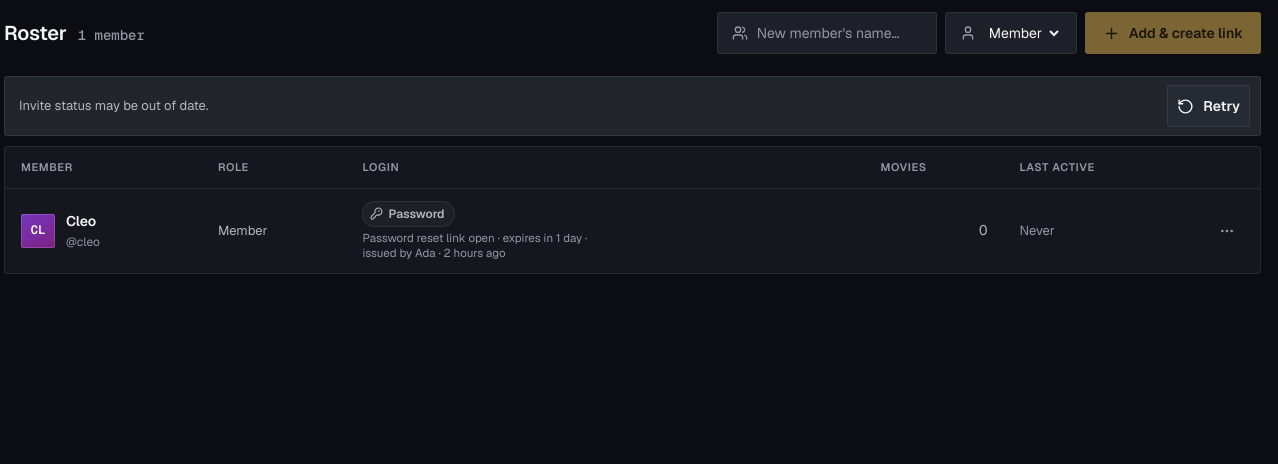
invite overview failure › warns on a failed background refresh and hides stale invite commands
Check: the text "Invite status may be out of date." is shown, box [19,96,208,116]
Click the button named "Actions for Cleo" at [1227, 230], box [1210,214,1244,248]
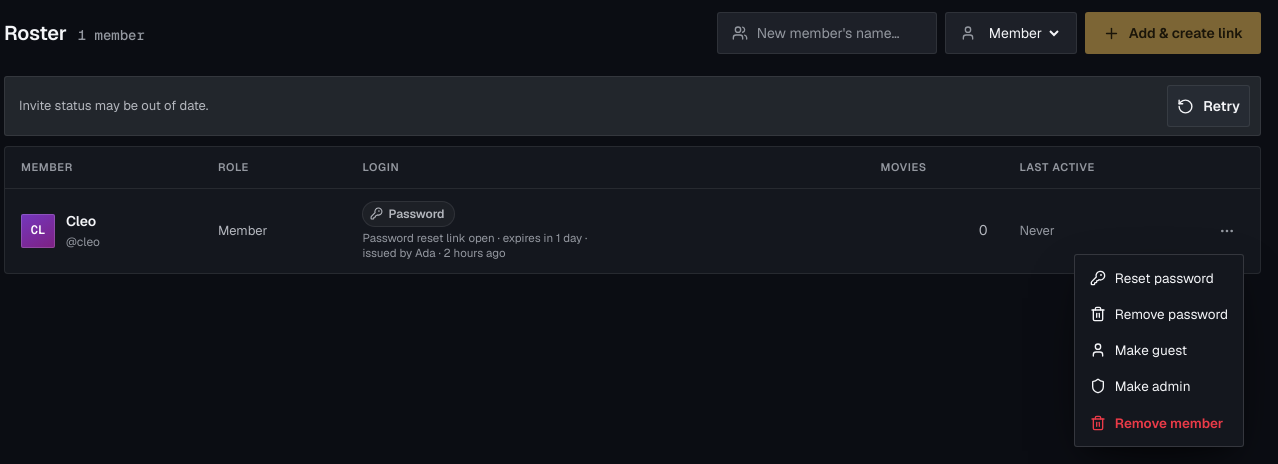
Check: the menu item "Reset password" is shown, box [1080,260,1238,296]
